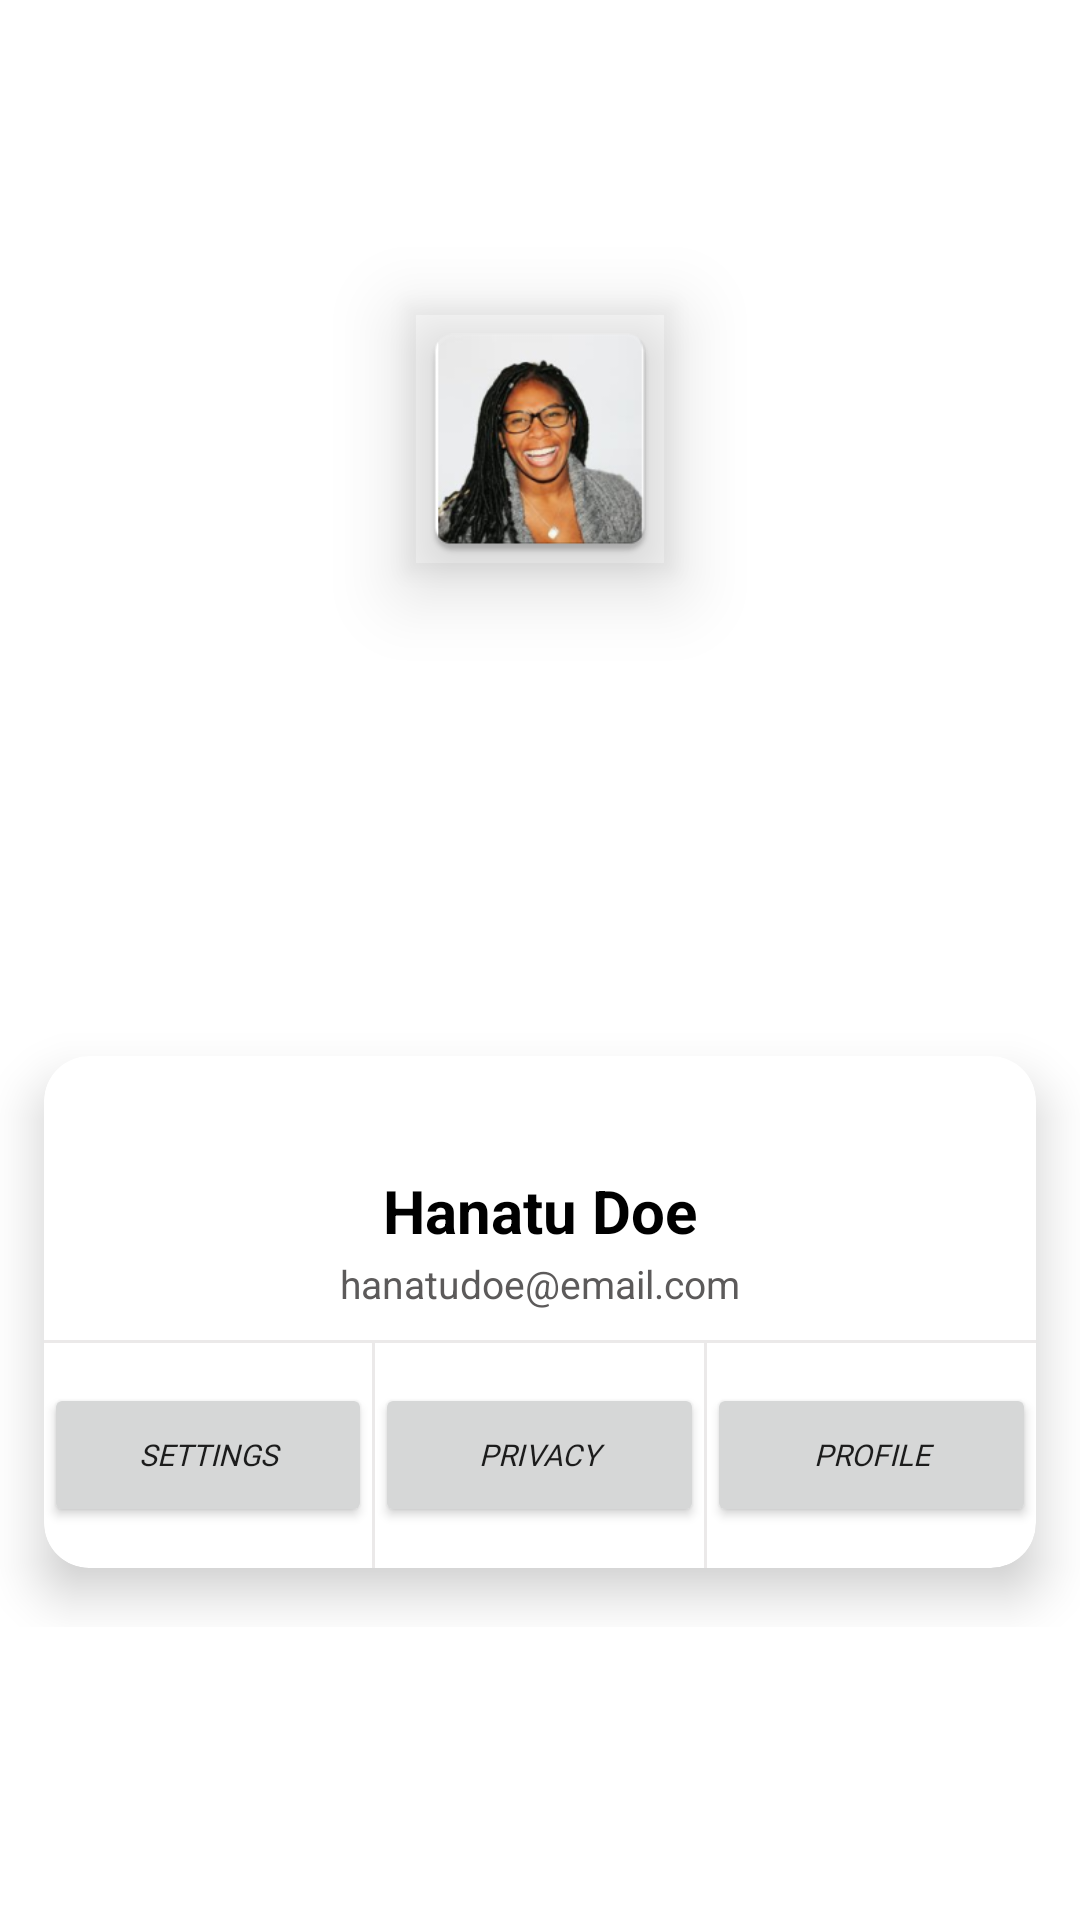

Where icons sit on this 1080×1920 app screen, as bbox=(x1, y1, x2, y2):
profile: bbox=(432, 342, 648, 566)
